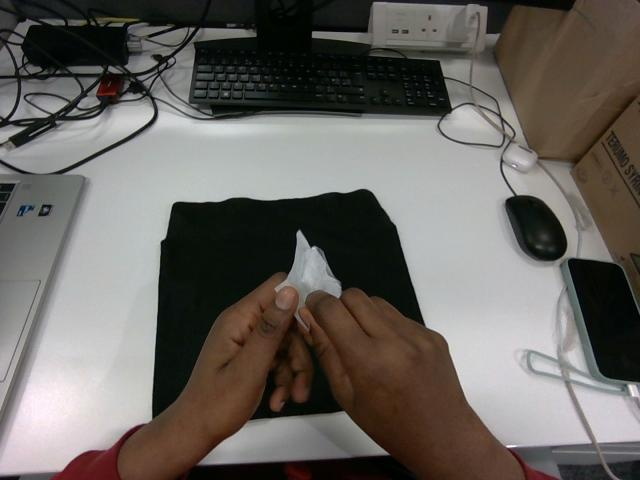gauze: (276, 230, 341, 329)
